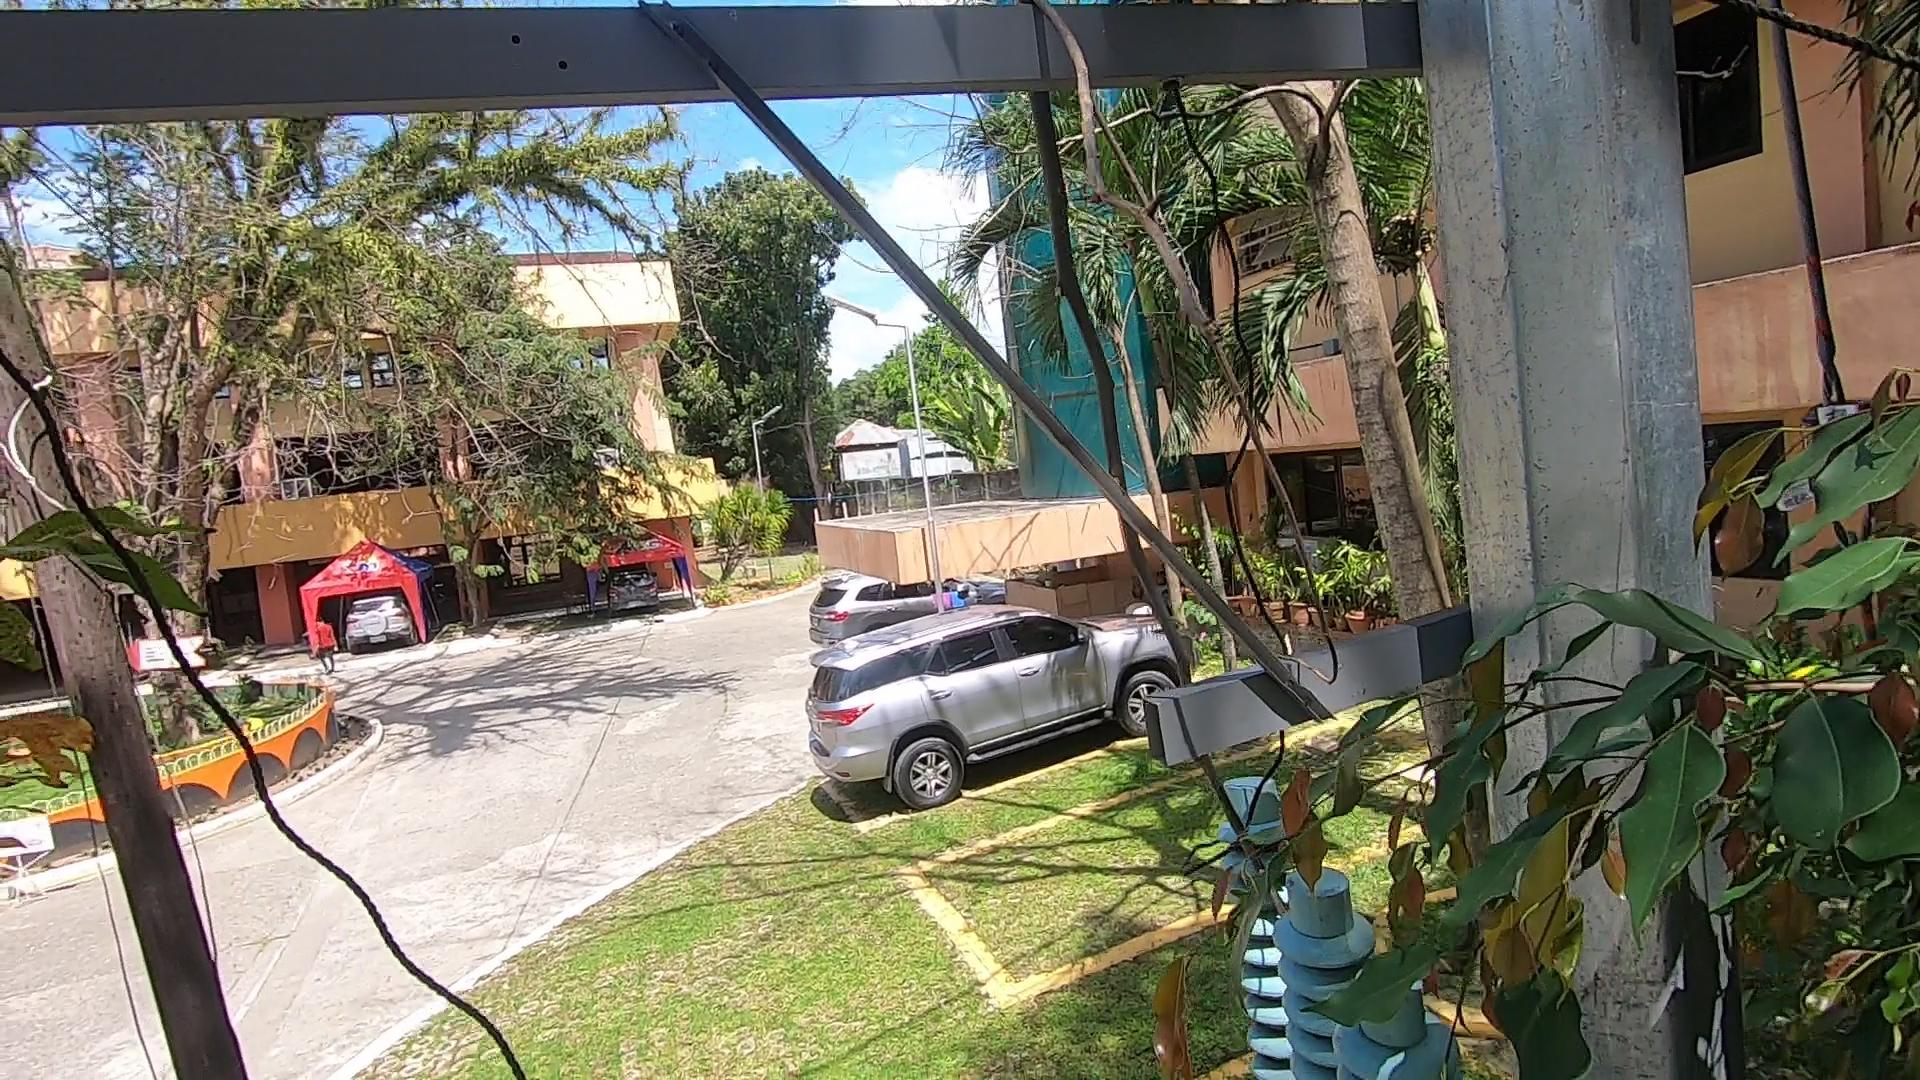branch with leaves: (1116, 732, 1654, 1077)
tree branch: (990, 3, 1354, 702)
